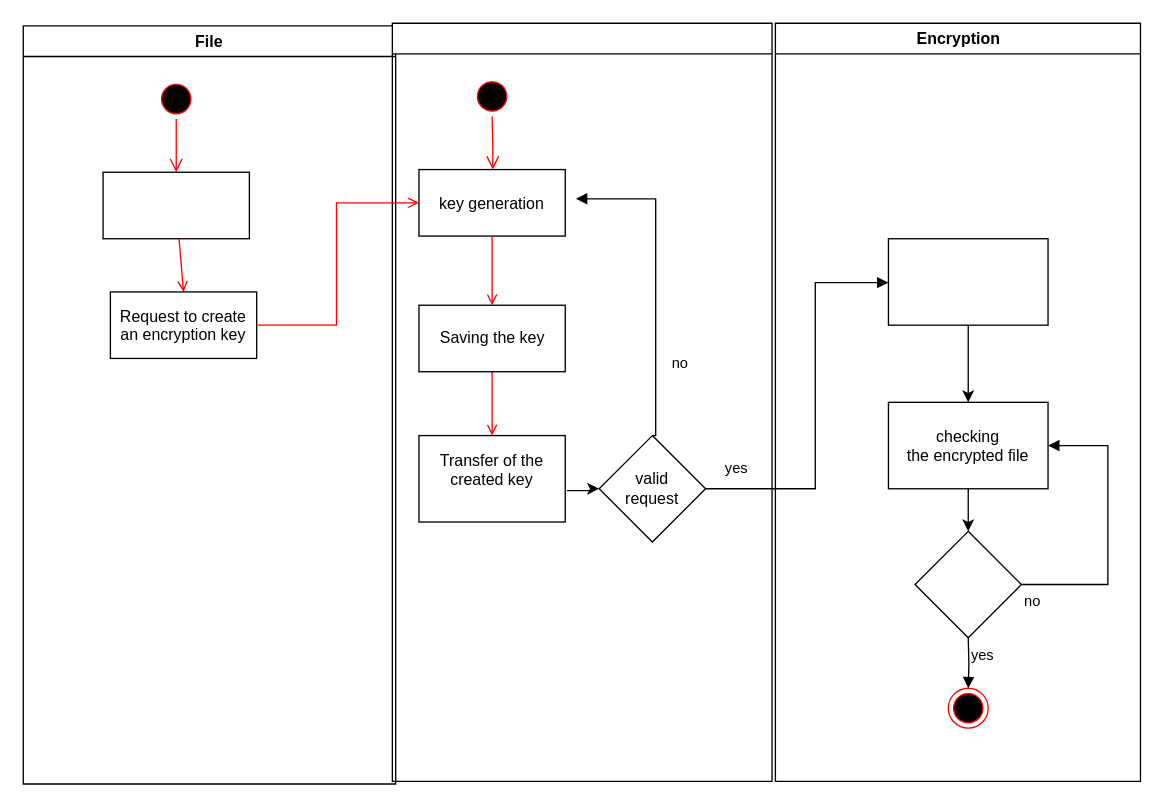
Some shapes in this 1164 by 807 pixel diagram are drawn without their labels. Here are the shapes that lost their labels. From the top down, the box of each, then its label:
(102, 171, 249, 239): source file
(887, 237, 1048, 325): entering the encryption key
(391, 22, 772, 781): Key Generator
(914, 530, 1021, 638): closing a file
